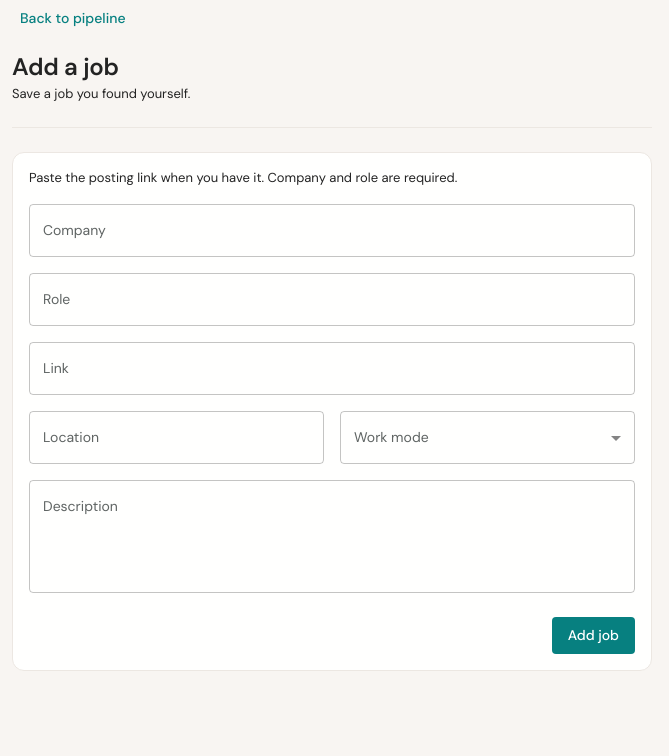
Test: AddJobPage › should offer the existing job when the link was already saved
Type "Acme" into the field labelled "Company" at (332, 230), box [29,204,635,257]
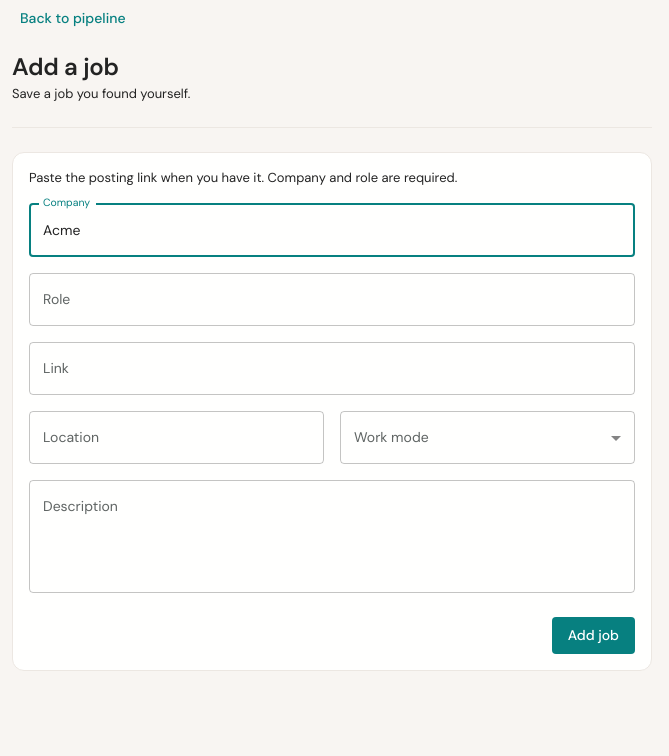
Type "Engineer" into the field labelled "Role" at (332, 299), box [29,273,635,326]
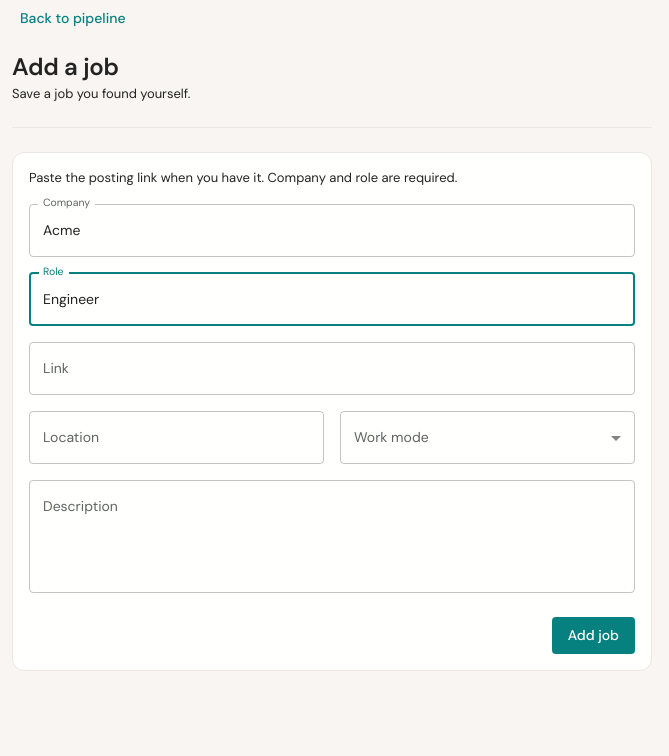
Click the button "Add job" at (593, 635), box [552,617,635,654]
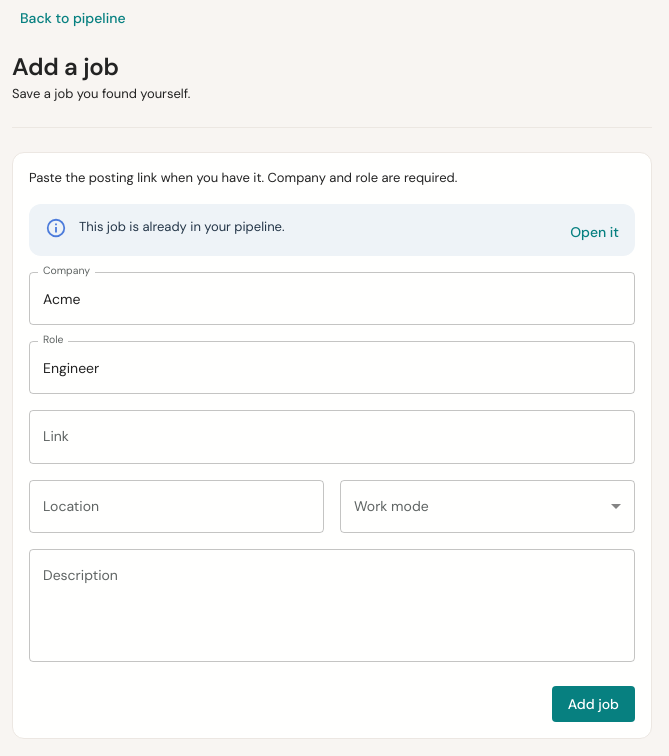
Result: the text "This job is already in your pipeline." is shown at [79,218,285,235]
